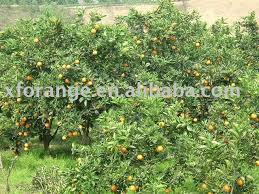orange: (90, 28, 96, 35)
